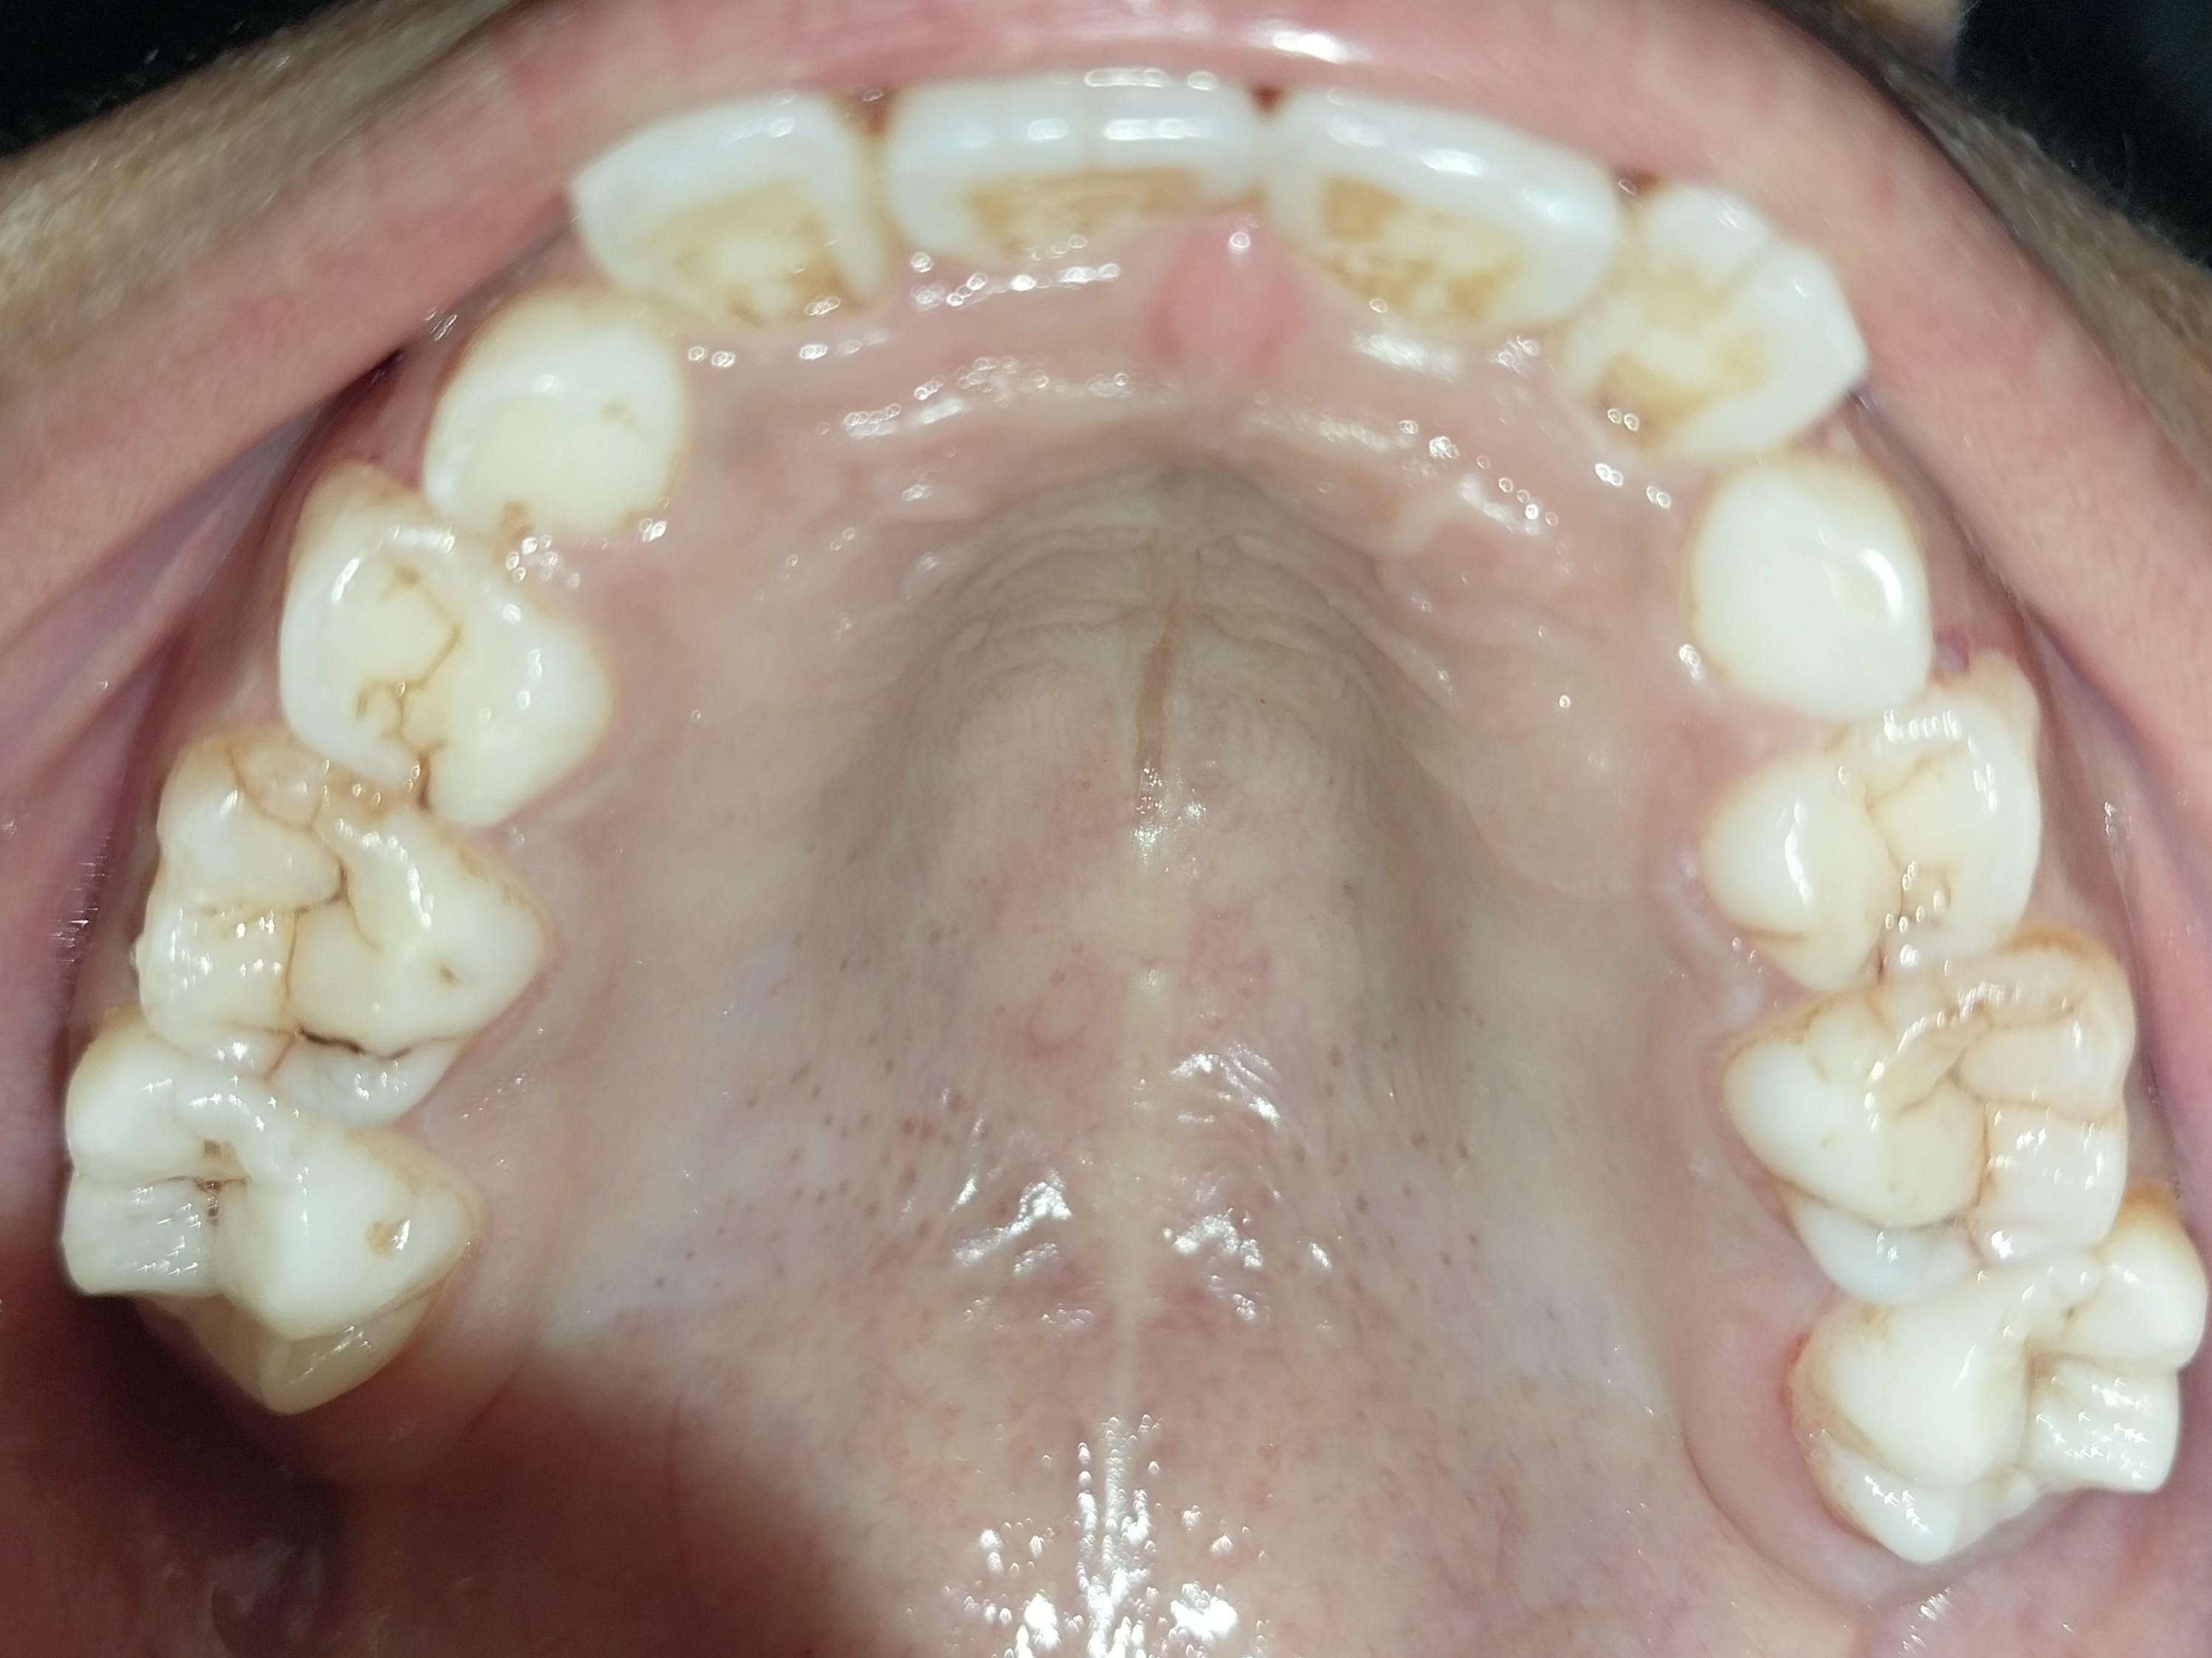D: (61, 1050, 464, 1411)
d: (123, 766, 526, 1124), (1736, 994, 2136, 1320)
